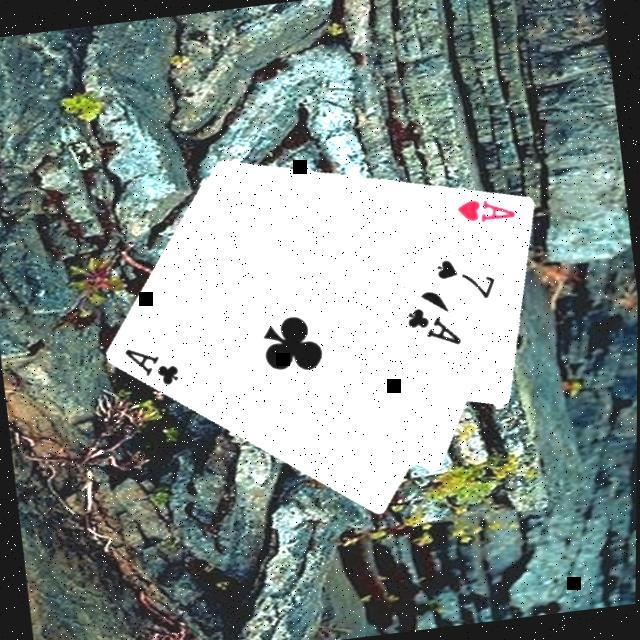7S: (433, 249, 503, 306)
AC: (403, 298, 466, 353), (122, 337, 185, 392)
AH: (453, 189, 520, 227)
